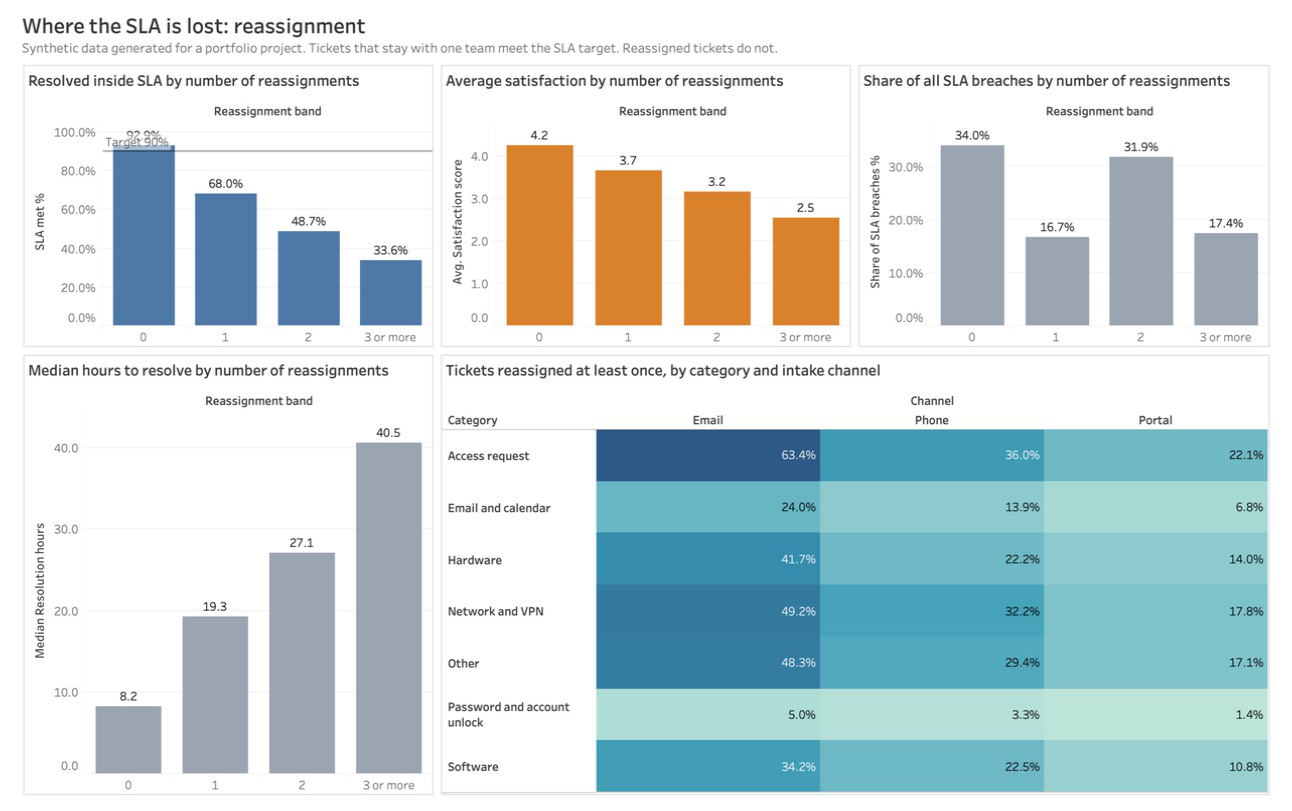

Layout of this report page (visuals, bound fields, positions):
{"tool":"tableau","page":{"name":"Reassignment","canvas":[1300,820],"ordinal":1},"visuals":[{"type":"title","box":[0,0,1300,56]},{"type":"worksheet","title":"SLA by reassignments","mark":"Bar","rows":["c_sla"],"cols":["reassignment_band"],"box":[0,56,433,300]},{"type":"worksheet","title":"Satisfaction by reassignments","mark":"Bar","rows":["csat_score"],"cols":["reassignment_band"],"box":[433,56,433,300]},{"type":"worksheet","title":"Breach share by reassignments","mark":"Bar","rows":["c_breach_share"],"cols":["reassignment_band"],"box":[866,56,434,300]},{"type":"worksheet","title":"Resolution hours by reassignments","mark":"Bar","rows":["resolution_hours"],"cols":["reassignment_band"],"box":[0,356,433,464]},{"type":"worksheet","title":"Reassigned by category and channel","mark":"Square","rows":["category"],"cols":["channel"],"box":[433,356,867,464]}]}

Visuals, with their boxes in screenshot pixels (x1, y1, x2, y2), scaled from the page's 1300x820 canvas onto the 1292x811 screenshot:
title: bbox=[0, 0, 1291, 55]
"SLA by reassignments" worksheet (Bar marks): bbox=[0, 55, 430, 352]
"Satisfaction by reassignments" worksheet (Bar marks): bbox=[430, 55, 861, 352]
"Breach share by reassignments" worksheet (Bar marks): bbox=[861, 55, 1291, 352]
"Resolution hours by reassignments" worksheet (Bar marks): bbox=[0, 352, 430, 810]
"Reassigned by category and channel" worksheet (Square marks): bbox=[430, 352, 1291, 810]
